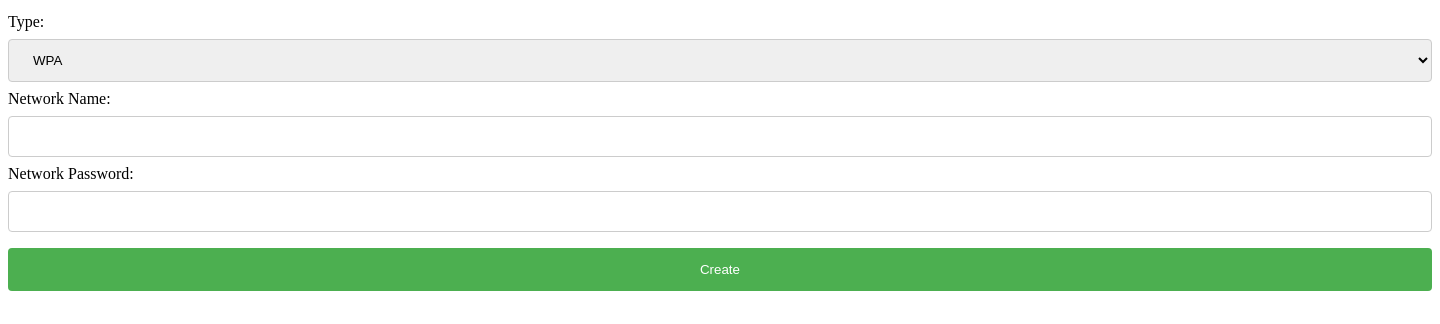
Test: FormWiFi › displays error message for invalid name or password
The width and height of the screenshot is (1440, 324).
# Click the submit button without entering any data
Step 1. Click the button "Create" → point(720, 270), box top-left (8, 248), bottom-right (1432, 291)
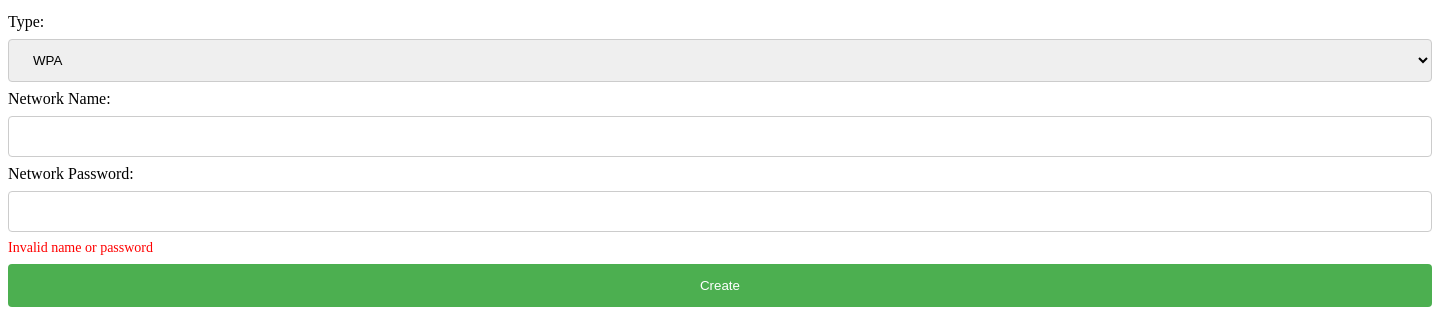
Expected: the text "Invalid name or password" is shown, top-left (8, 240), bottom-right (153, 255)
